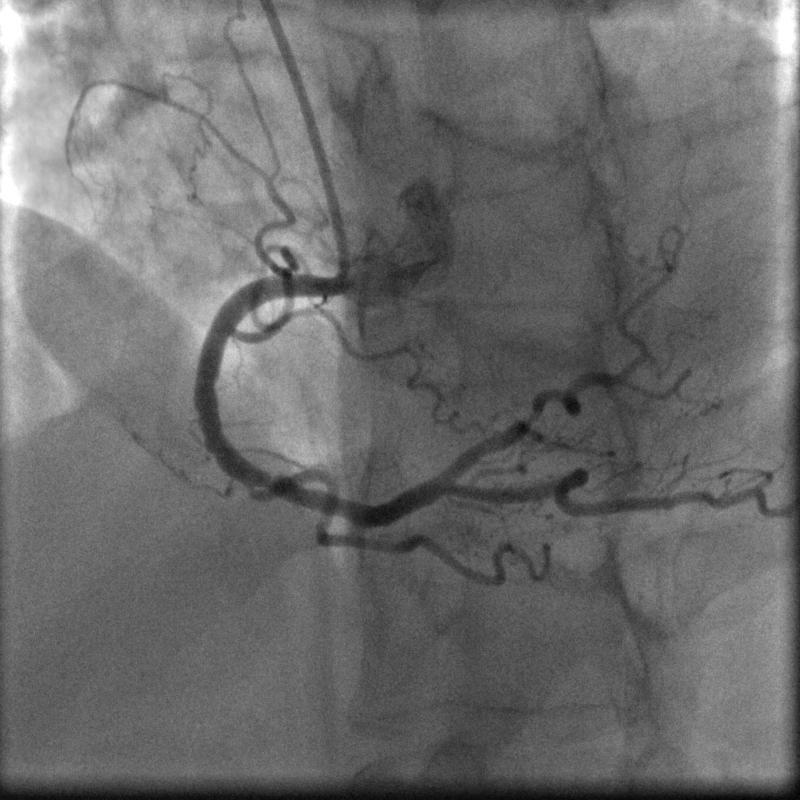Stenosis: (513, 393, 543, 428)
